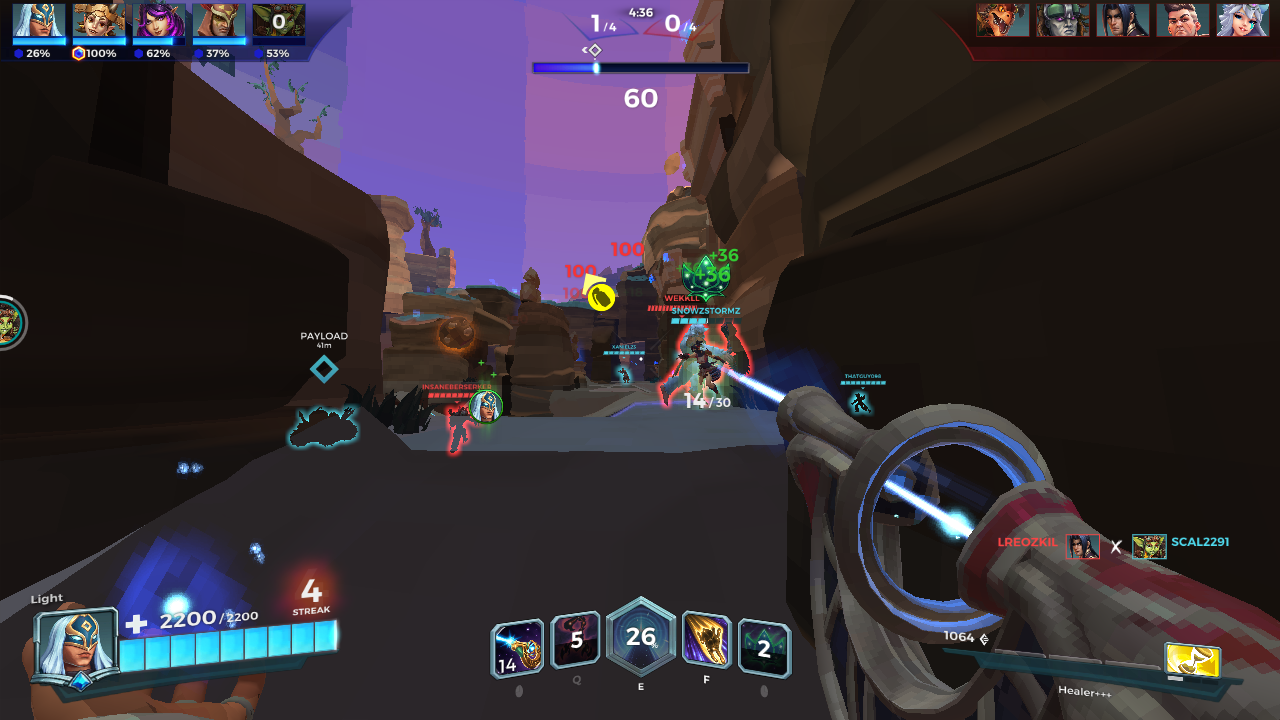model: (657, 317, 727, 409), (446, 403, 475, 456)
